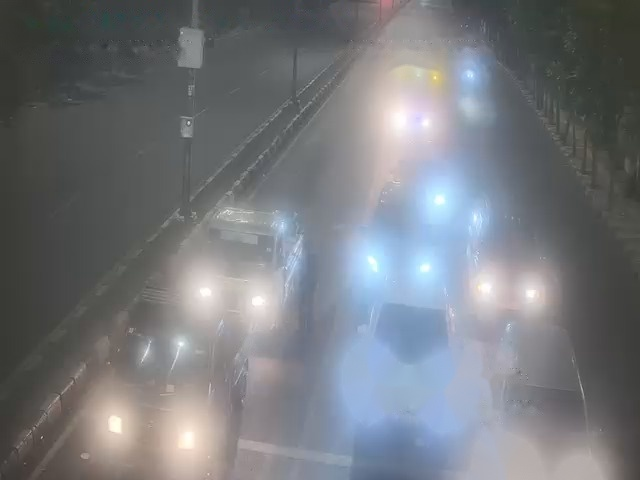Mobil: (497, 326, 595, 480), (194, 196, 299, 316), (165, 315, 248, 455), (371, 274, 449, 408), (473, 204, 543, 318), (362, 179, 427, 274)
